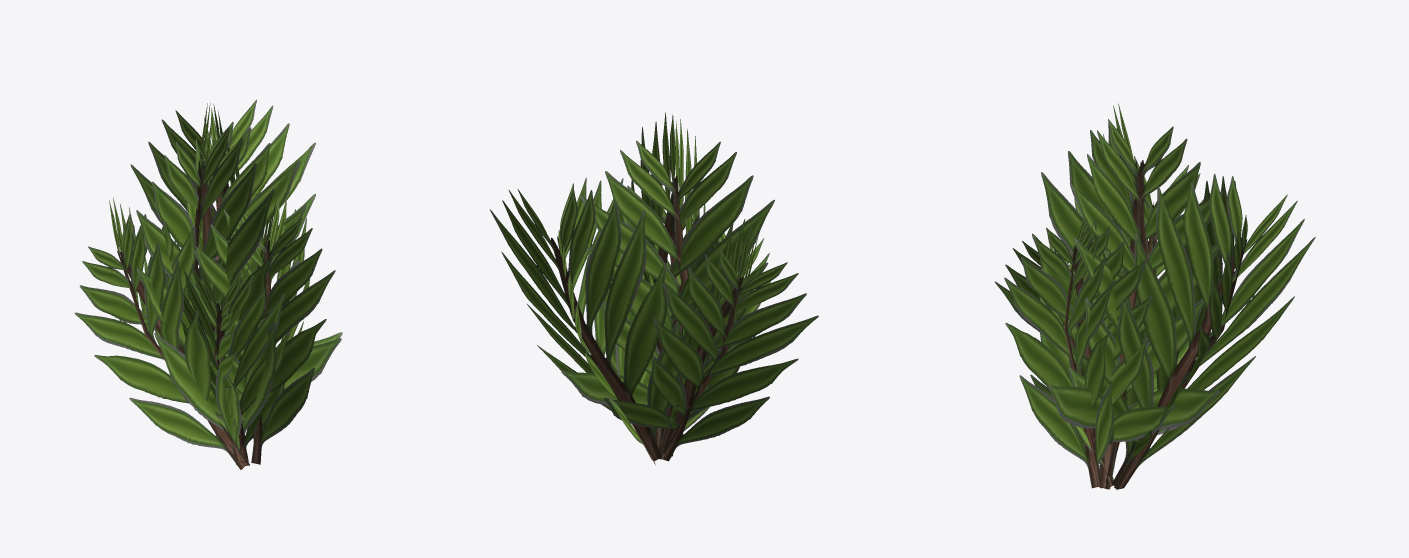
The model's file is Bush.fbx.
The picture shows the model from 3 angles, left to right: view 1: azimuth 30°, elevation 25°; view 2: azimuth 150°, elevation 25°; view 3: azimuth 270°, elevation 25°; orthographic projection. The views are drawn at different scales.
Visible parts, largest first — view 1: pPlane9; view 2: pPlane9; view 3: pPlane9.
Part boxes in pixels (x1=…): pPlane9: x1=74, y1=99, x2=342, y2=469; pPlane9: x1=489, y1=112, x2=818, y2=464; pPlane9: x1=995, y1=103, x2=1315, y2=489.
Bounding box in the file's own units: 149 × 146 × 137.
1 material, 1 textured.
